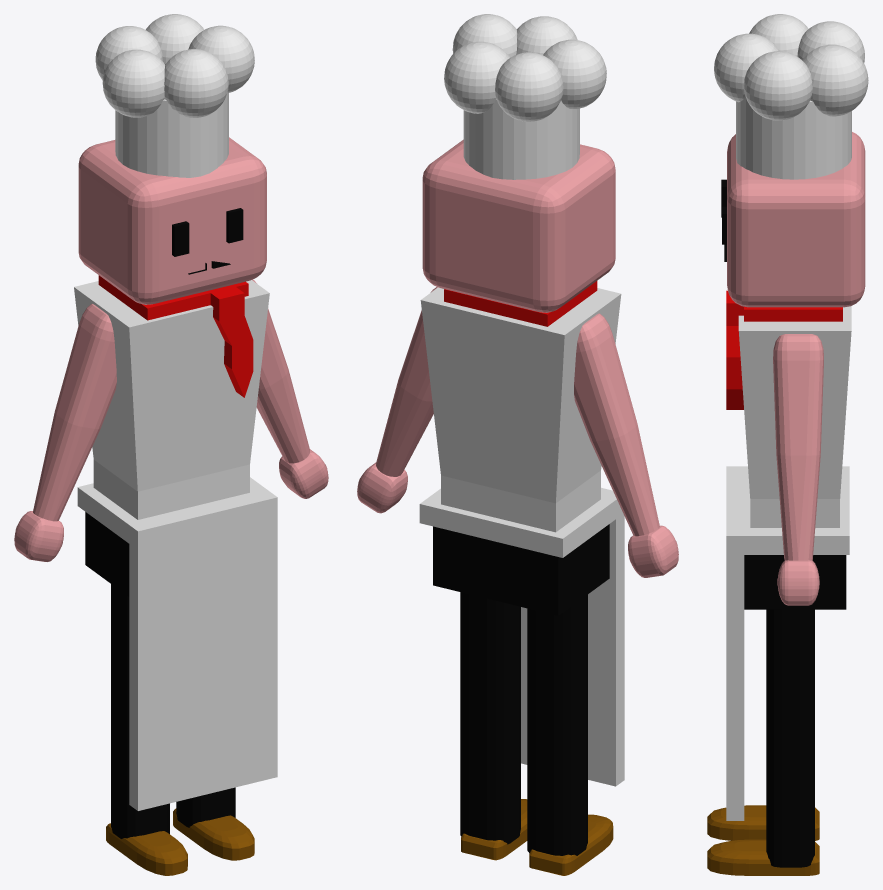
Rendered from Chef.fbx.
3 renders of one model, left to right at view 1: azimuth 30°, elevation 25°; view 2: azimuth 150°, elevation 25°; view 3: azimuth 270°, elevation 25°, orthographic. The views are drawn at different scales.
Parts seen in each view (by area): view 1: Cube.087; view 2: Cube.087; view 3: Cube.087.
Boxes of the visible parts, x1=… form: Cube.087: x1=14, y1=14, x2=328, y2=875; Cube.087: x1=357, y1=14, x2=678, y2=875; Cube.087: x1=707, y1=14, x2=868, y2=875.
Size of the model in its own units: 612 by 1554 by 278.
